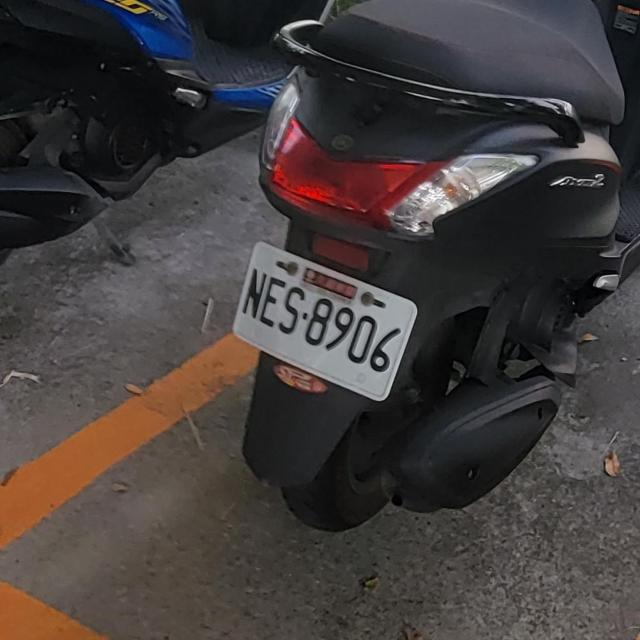W: (218, 237, 427, 410)
